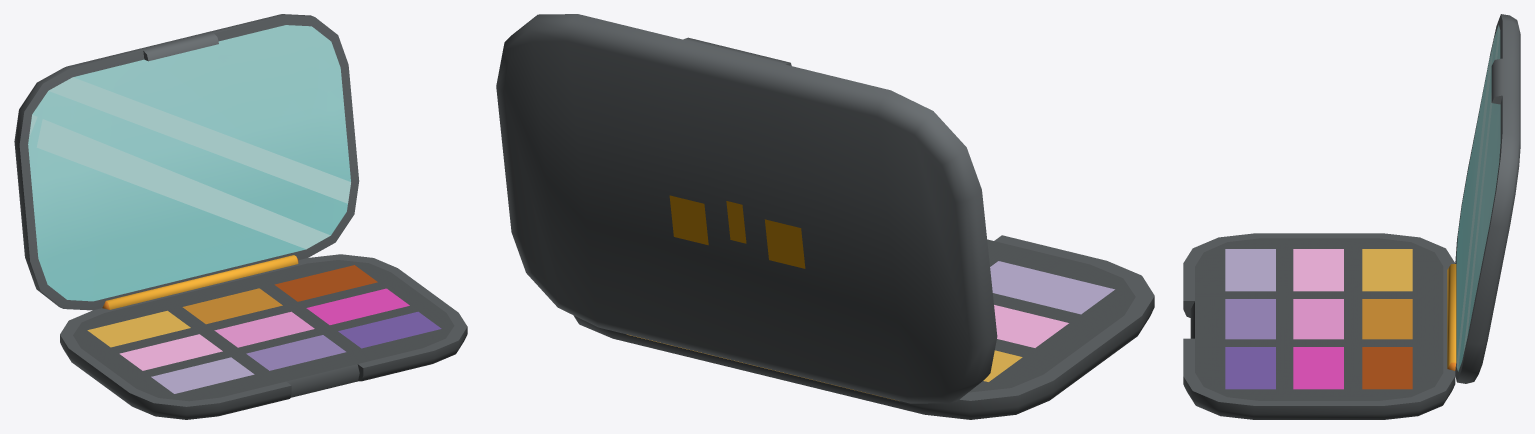
The model's file is EyeShadows_L.fbx.
3 views of the same model, side by side, from view 1: azimuth 30°, elevation 25°; view 2: azimuth 150°, elevation 25°; view 3: azimuth 270°, elevation 25° (orthographic). The views are drawn at different scales.
Visible parts, largest first — view 1: EyeShadows_L; view 2: EyeShadows_L; view 3: EyeShadows_L.
Boxes of the visible parts, x1,y1,x2,y2 form: EyeShadows_L: (14,14,467,419); EyeShadows_L: (496,14,1154,419); EyeShadows_L: (1183,14,1520,419).
Size of the model in its own units: 4.8 by 3.39 by 3.97.
